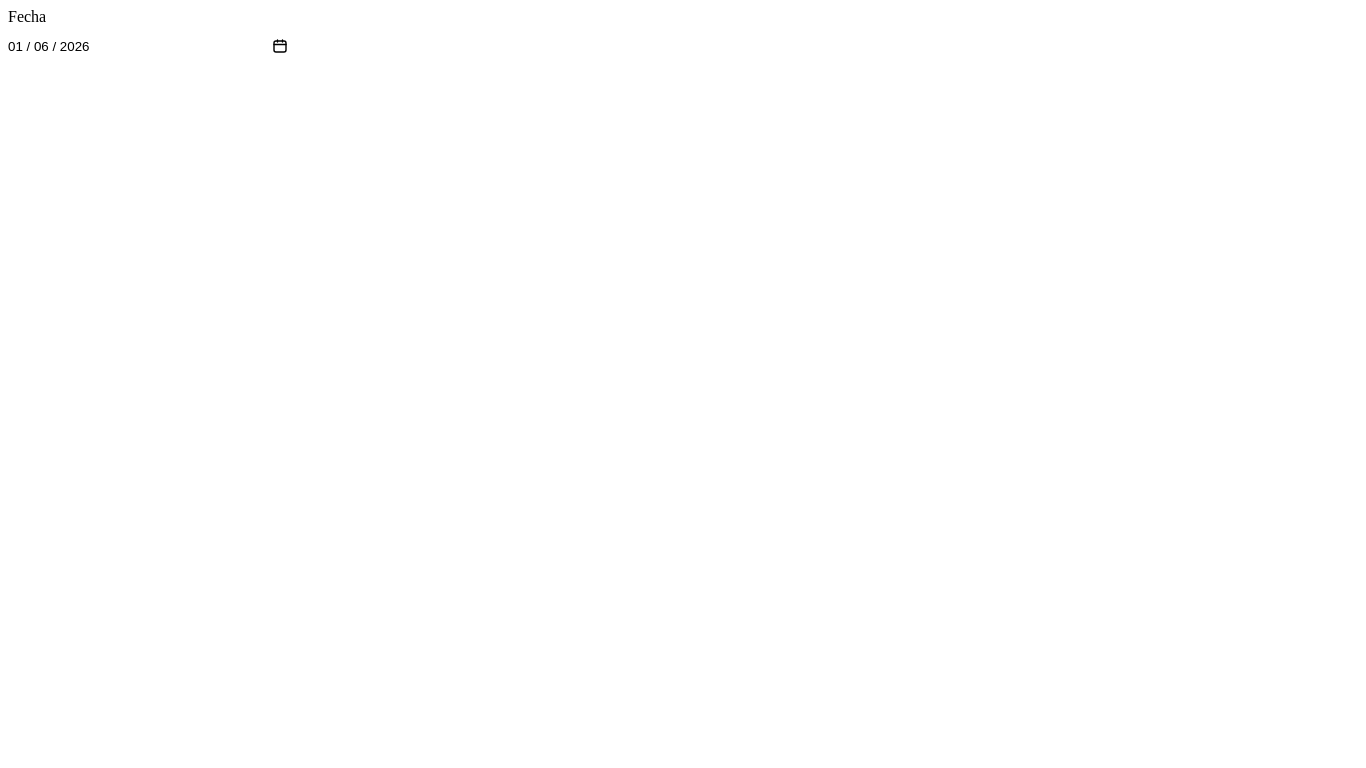
Scenario: Datepicker › opens the calendar on trigger click
Click the button named "Fecha": (49, 46) x1=8 y1=26 x2=288 y2=66
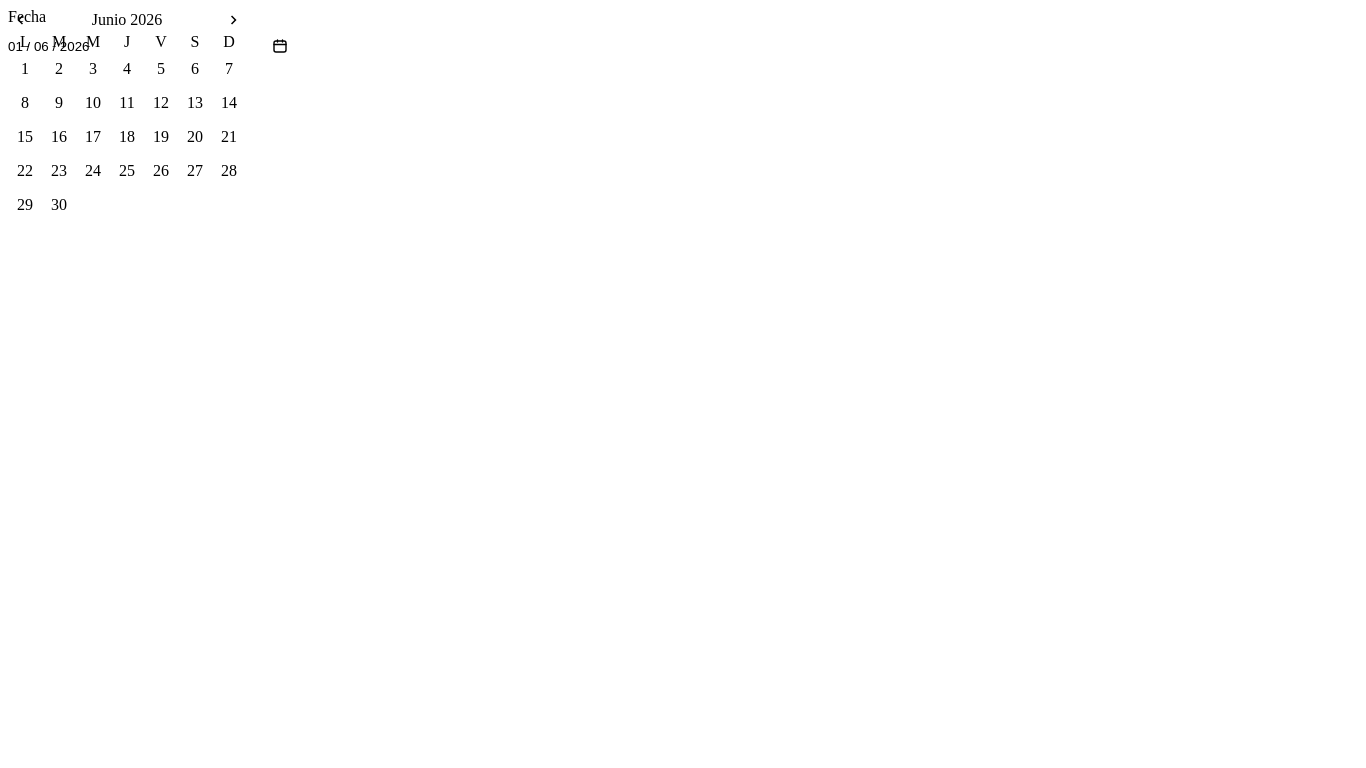
Expected: the dialog is shown, x1=8 y1=8 x2=246 y2=222
Expected: the text "Junio 2026" is shown, x1=92 y1=11 x2=162 y2=28
